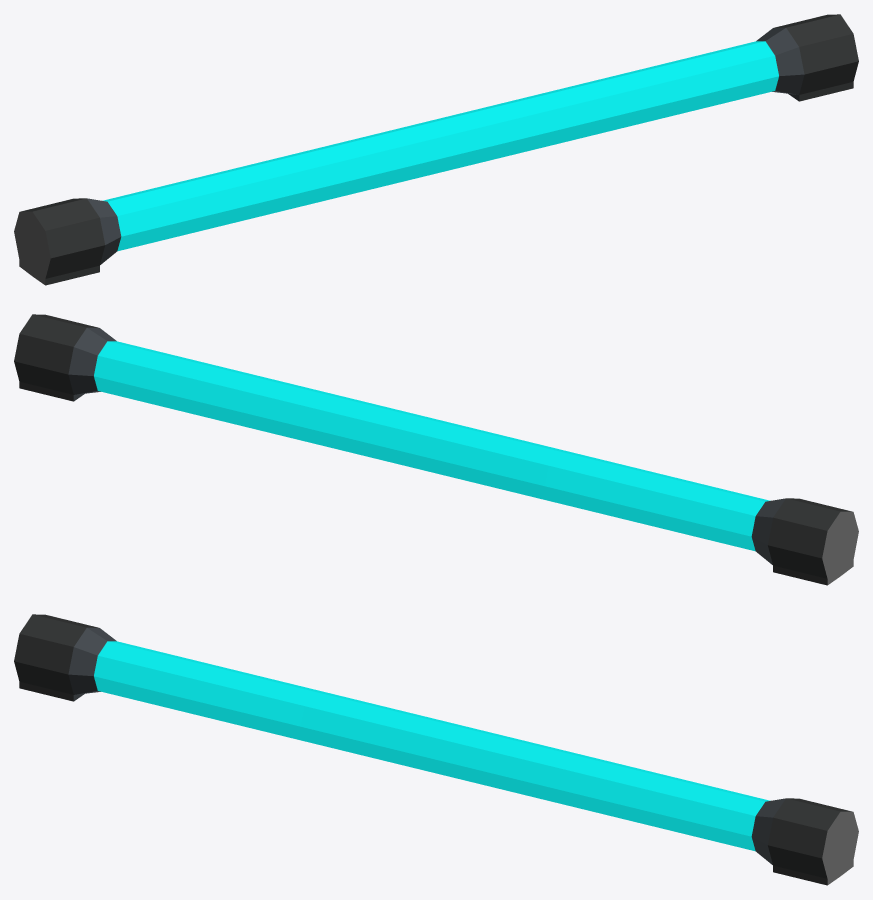
The model's file is NeonLightTube_04.glb.
3 renders of one model, top to bottom at view 1: azimuth 30°, elevation 25°; view 2: azimuth 150°, elevation 25°; view 3: azimuth 330°, elevation 25°, orthographic.
Visible parts, largest first — view 1: NeonLightTube_04; view 2: NeonLightTube_04; view 3: NeonLightTube_04.
Part boxes in pixels (x1,y1,x2,y2): NeonLightTube_04: (14,14,858,285); NeonLightTube_04: (14,314,858,585); NeonLightTube_04: (14,614,858,885).
Size of what is drawn, in the model's own units: 1.71 by 0.1314 by 0.1354.
Materials: 2 (2 with a texture image).
